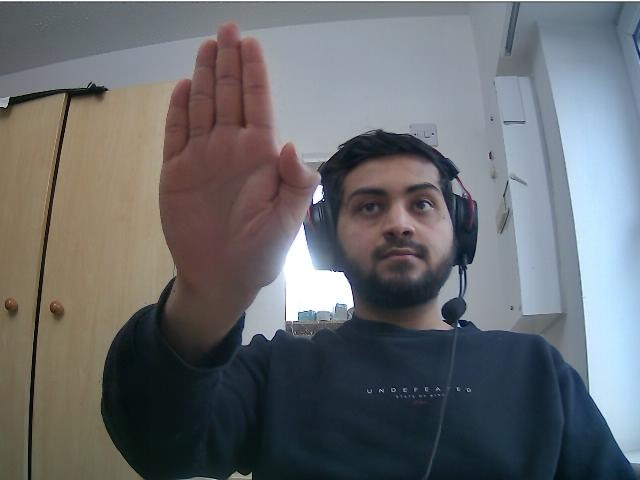up: (157, 22, 321, 285)
